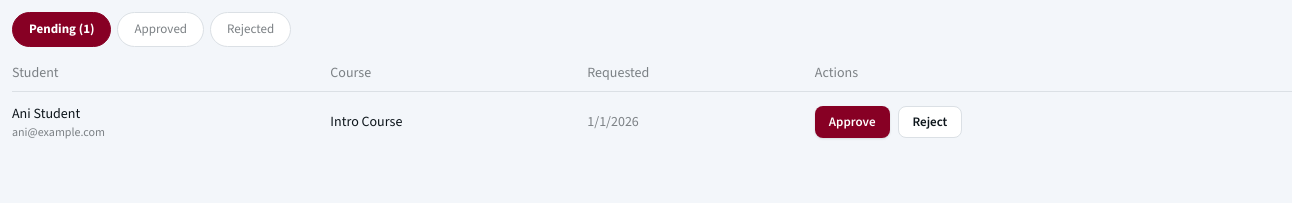
Test case: ParishJoinRequestsManager › shows a network error when approval cannot reach the server
Click the button "Approve" at (852, 122), box [815,106,890,138]
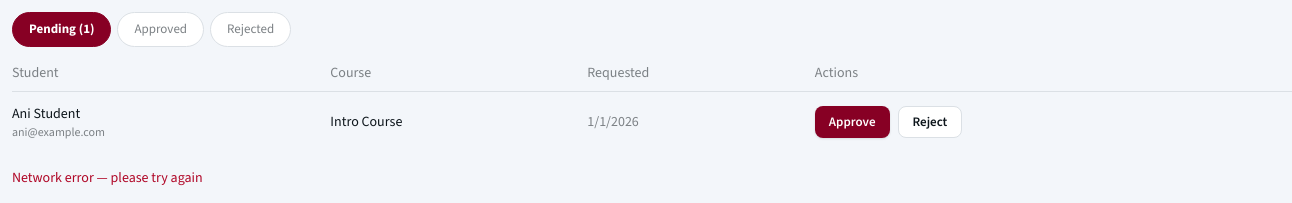
expect the text "Network error — please try again" is shown: met, box [12,168,203,187]
